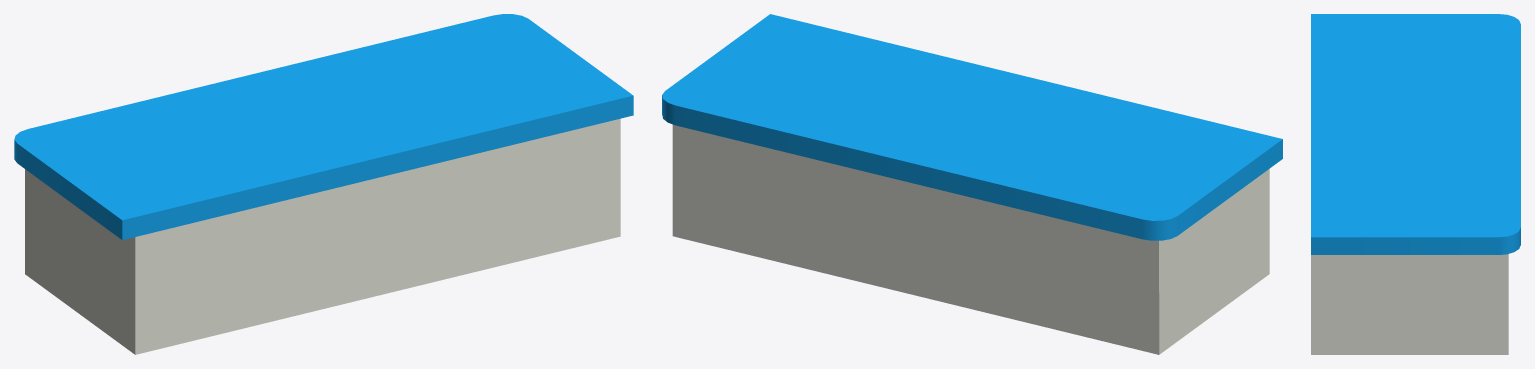
The model's file is TableB10_geo.fbx.
3 views of the same model, side by side, from view 1: azimuth 30°, elevation 25°; view 2: azimuth 150°, elevation 25°; view 3: azimuth 270°, elevation 25° (orthographic). The views are drawn at different scales.
Parts seen in each view (by area): view 1: TableB10_geo; view 2: TableB10_geo; view 3: TableB10_geo.
Part boxes in pixels (left/top/right/bottom): TableB10_geo: left=14, top=14, right=633, bottom=354; TableB10_geo: left=662, top=14, right=1282, bottom=354; TableB10_geo: left=1311, top=14, right=1520, bottom=354.
Bounding box in the file's own units: 2.64 × 1.05 × 0.6803.
